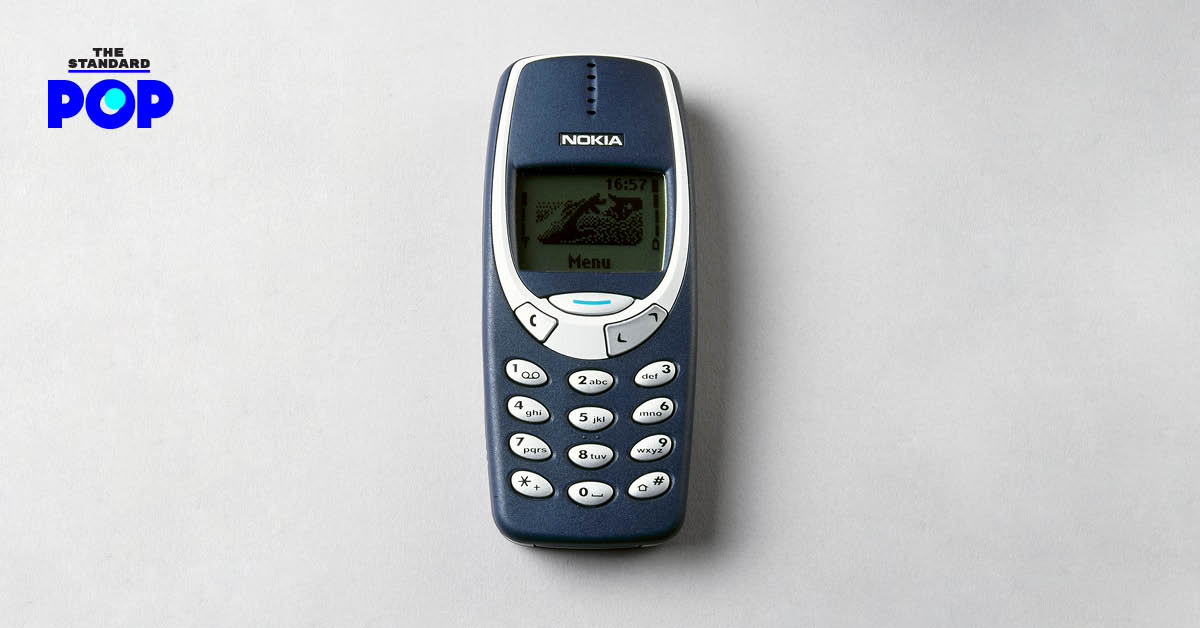Phone: (478, 51, 702, 555)
